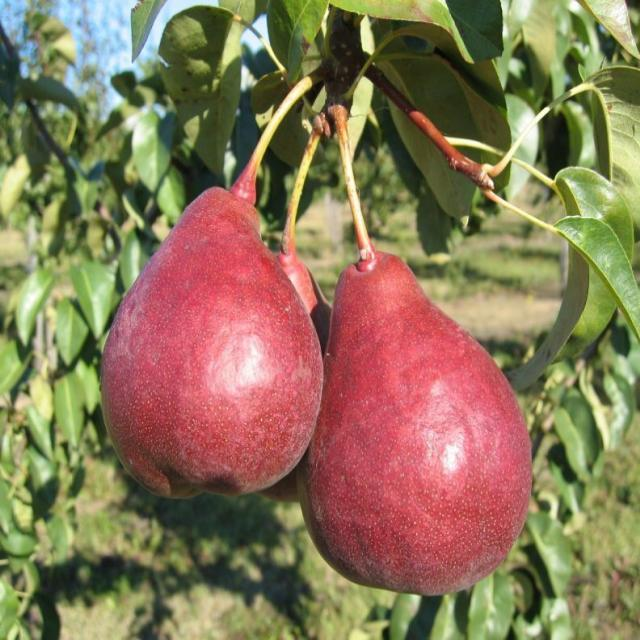pear: (96, 82, 537, 598), (298, 245, 534, 597), (97, 180, 325, 500)
